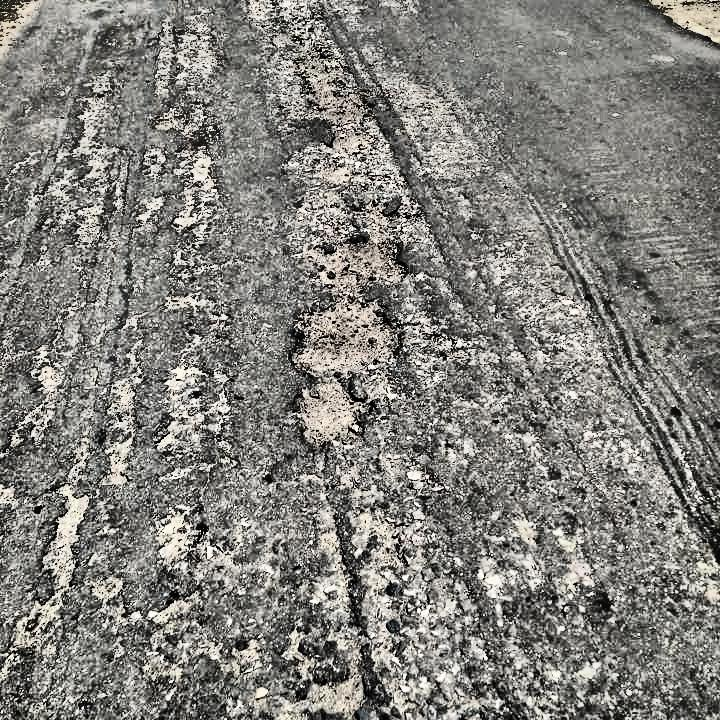pothole: (284, 295, 407, 375), (293, 46, 379, 157), (301, 235, 412, 291), (291, 373, 371, 450), (296, 669, 369, 717)
